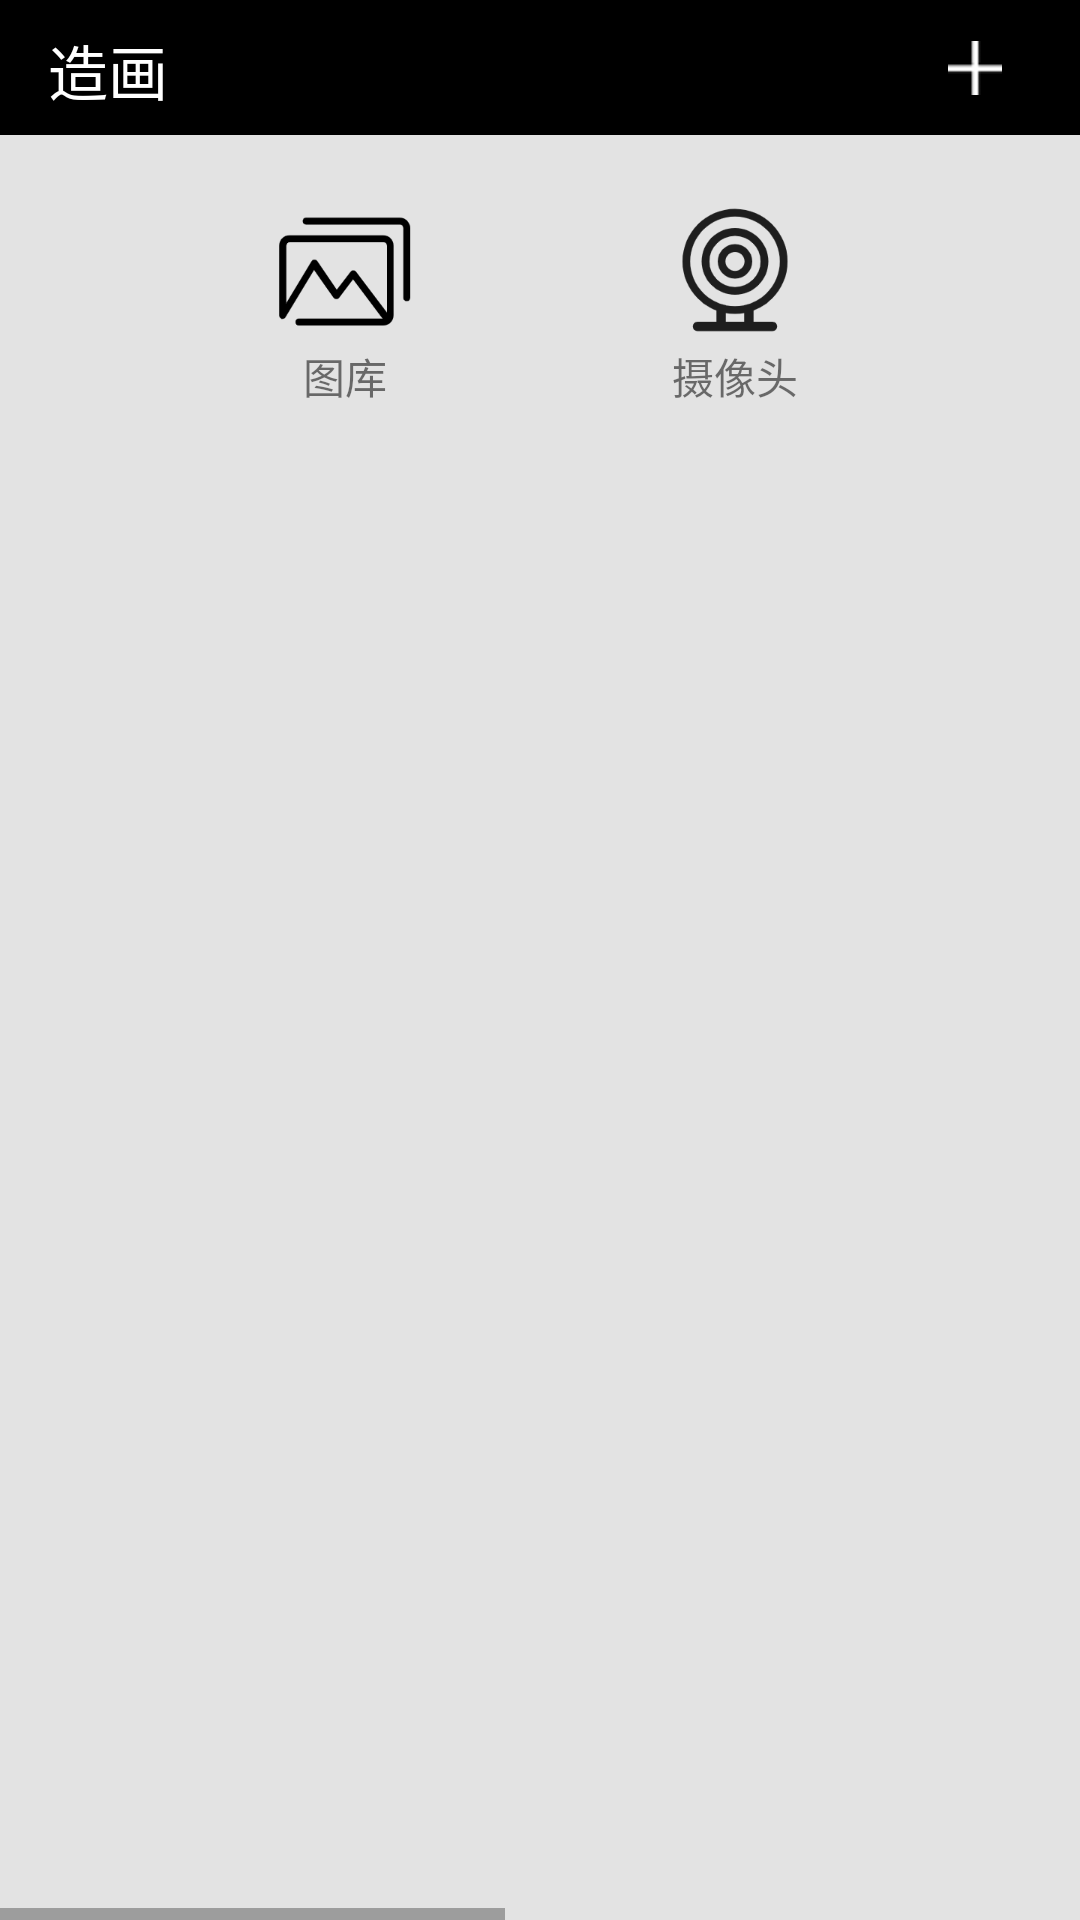

Icon bounding boxes for this 1080*1920 phone screenshot, format (x1, y1, x2, y2):
add: (948, 41, 1002, 95)
